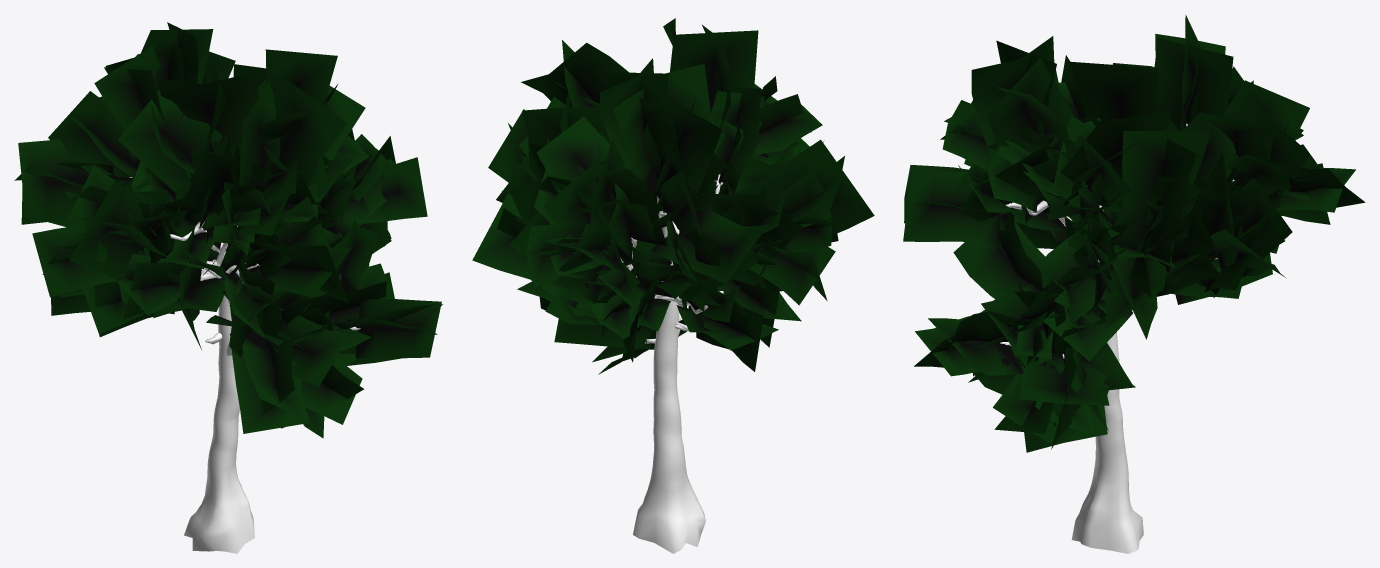
Rendered from BeecthTree01WinterSnow_LOD0.fbx.
The picture shows the model from 3 angles, left to right: view 1: azimuth 30°, elevation 25°; view 2: azimuth 150°, elevation 25°; view 3: azimuth 270°, elevation 25°; orthographic projection. The views are drawn at different scales.
Visible parts, largest first — view 1: BeecthTree01WinterSnow_LOD0; view 2: BeecthTree01WinterSnow_LOD0; view 3: BeecthTree01WinterSnow_LOD0.
Part boxes in pixels (bbox=[...]): BeecthTree01WinterSnow_LOD0: bbox=[14, 22, 442, 553]; BeecthTree01WinterSnow_LOD0: bbox=[472, 18, 874, 553]; BeecthTree01WinterSnow_LOD0: bbox=[903, 15, 1365, 553].
Size of the model in its own units: 16.37 by 21.41 by 17.43.
